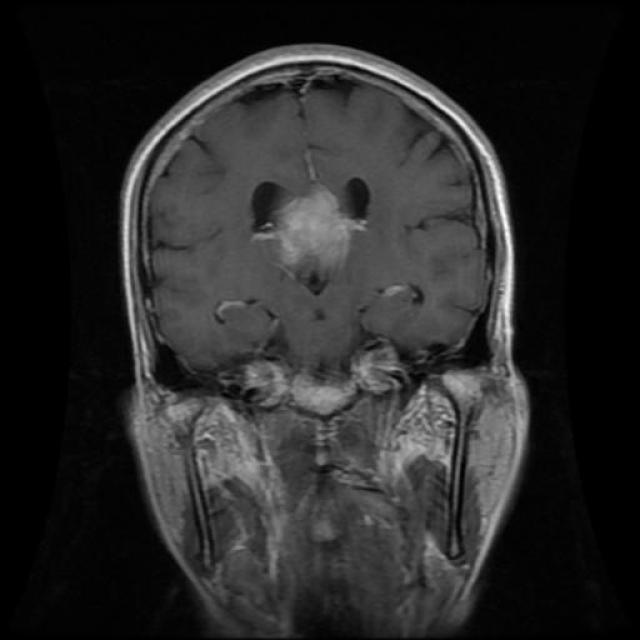meningioma: (275, 184, 351, 281)
